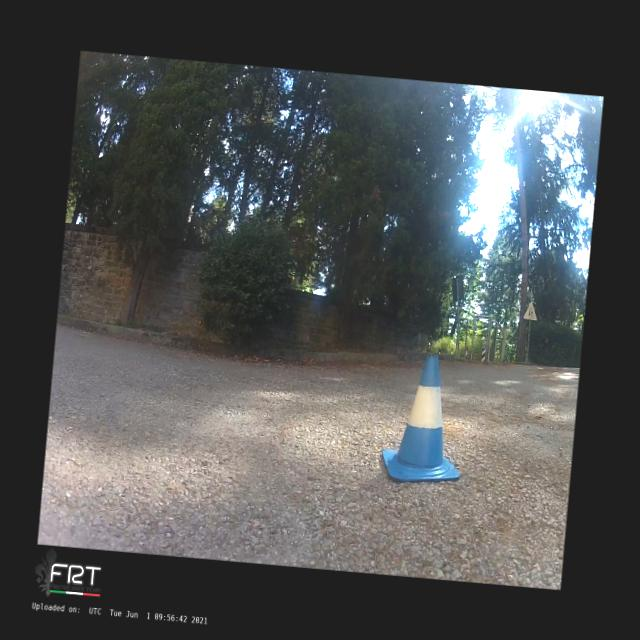blue_cone: (379, 351, 469, 485)
